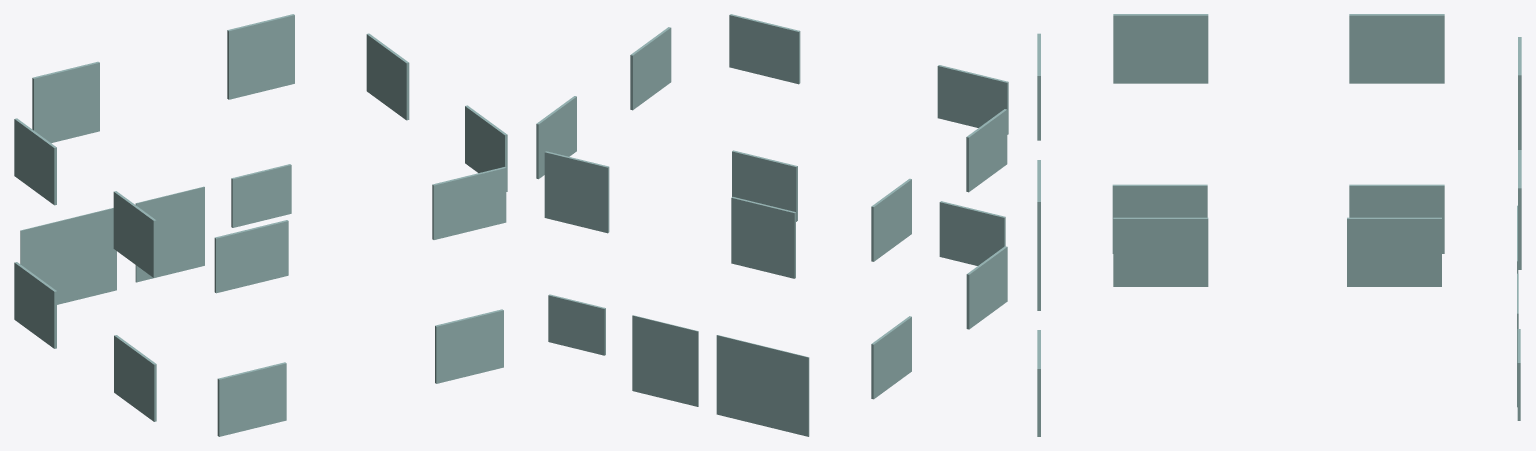
The model's file is Windows_unsized.obj.
3 renders of one model, left to right at view 1: azimuth 30°, elevation 25°; view 2: azimuth 150°, elevation 25°; view 3: azimuth 270°, elevation 25°, orthographic. The views are drawn at different scales.
Visible parts, largest first — view 1: polySurface145 polySurface390, polySurface145 polySurface321, polySurface145 polySurface363, polySurface145 polySurface389, polySurface336 polySurface145, polySurface145 polySurface388, polySurface145 polySurface339, polySurface145 polySurface360, polySurface145 polySurface393, polySurface145 polySurface427, polySurface145 polySurface441, polySurface145 polySurface380 (+3 smaller); view 2: polySurface145 polySurface390, polySurface145 polySurface389, polySurface145 polySurface321, polySurface145 polySurface363, polySurface336 polySurface145, polySurface145 polySurface388, polySurface145 polySurface339, polySurface145 polySurface360, polySurface145 polySurface393, polySurface145 polySurface371, polySurface145 polySurface427, polySurface145 polySurface422 (+3 smaller); view 3: polySurface145 polySurface380, polySurface145 polySurface427, polySurface145 polySurface422, polySurface145 polySurface441, polySurface145 polySurface303, polySurface145 polySurface371, polySurface145 polySurface321.
Part boxes in pixels (x1,y1,x2,y2): polySurface145 polySurface390: (20, 208, 116, 304); polySurface145 polySurface321: (227, 14, 294, 99); polySurface145 polySurface363: (32, 61, 99, 143); polySurface145 polySurface389: (135, 186, 204, 282); polySurface336 polySurface145: (432, 167, 506, 239); polySurface145 polySurface388: (214, 220, 288, 293); polySurface145 polySurface339: (217, 362, 286, 436); polySurface145 polySurface360: (435, 309, 503, 383); polySurface145 polySurface393: (231, 164, 291, 227); polySurface145 polySurface427: (113, 191, 156, 277); polySurface145 polySurface441: (366, 33, 409, 120); polySurface145 polySurface380: (14, 118, 56, 205); polySurface145 polySurface390: (716, 335, 809, 436); polySurface145 polySurface389: (632, 315, 698, 406); polySurface145 polySurface321: (544, 151, 609, 233); polySurface145 polySurface363: (731, 197, 795, 278); polySurface336 polySurface145: (729, 14, 800, 84); polySurface145 polySurface388: (937, 65, 1008, 134); polySurface145 polySurface339: (939, 201, 1005, 265); polySurface145 polySurface360: (732, 150, 797, 221); polySurface145 polySurface393: (548, 294, 605, 355); polySurface145 polySurface371: (966, 246, 1007, 329); polySurface145 polySurface427: (966, 109, 1007, 192); polySurface145 polySurface422: (630, 27, 671, 110); polySurface145 polySurface380: (1349, 14, 1444, 83); polySurface145 polySurface427: (1113, 14, 1208, 83); polySurface145 polySurface422: (1113, 217, 1208, 286); polySurface145 polySurface441: (1347, 217, 1441, 286); polySurface145 polySurface303: (1349, 184, 1444, 253); polySurface145 polySurface371: (1112, 184, 1207, 253); polySurface145 polySurface321: (1518, 150, 1521, 269).
Bounding box in the file's own units: 24.53 × 15.34 × 24.48.
Materials: 1 (1 with a texture image).
